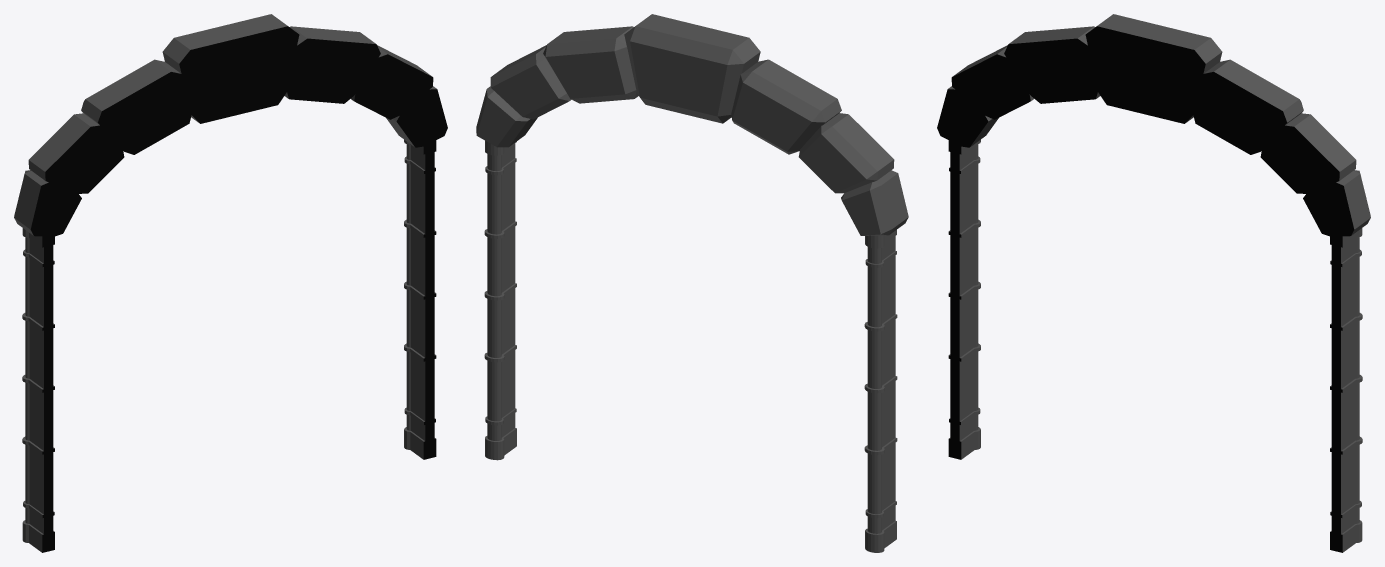
File: DoubleDoorframe.fbx
3 views of the same model, side by side, from view 1: azimuth 30°, elevation 25°; view 2: azimuth 150°, elevation 25°; view 3: azimuth 330°, elevation 25° (orthographic).
Parts seen in each view (by area): view 1: DoubleDoorframe; view 2: DoubleDoorframe; view 3: DoubleDoorframe.
Part boxes in pixels (bbox=[...]): DoubleDoorframe: bbox=[14, 14, 447, 552]; DoubleDoorframe: bbox=[476, 14, 908, 552]; DoubleDoorframe: bbox=[937, 14, 1370, 552].
Size of the model in its own units: 270 by 288 by 24.78.
